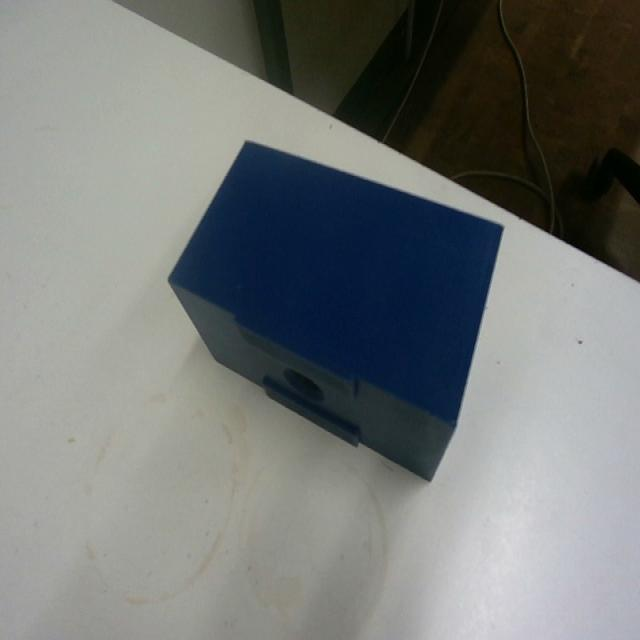Blue Cuboid: (165, 135, 505, 482)
